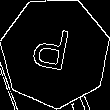P_S: (33, 24, 78, 81)
